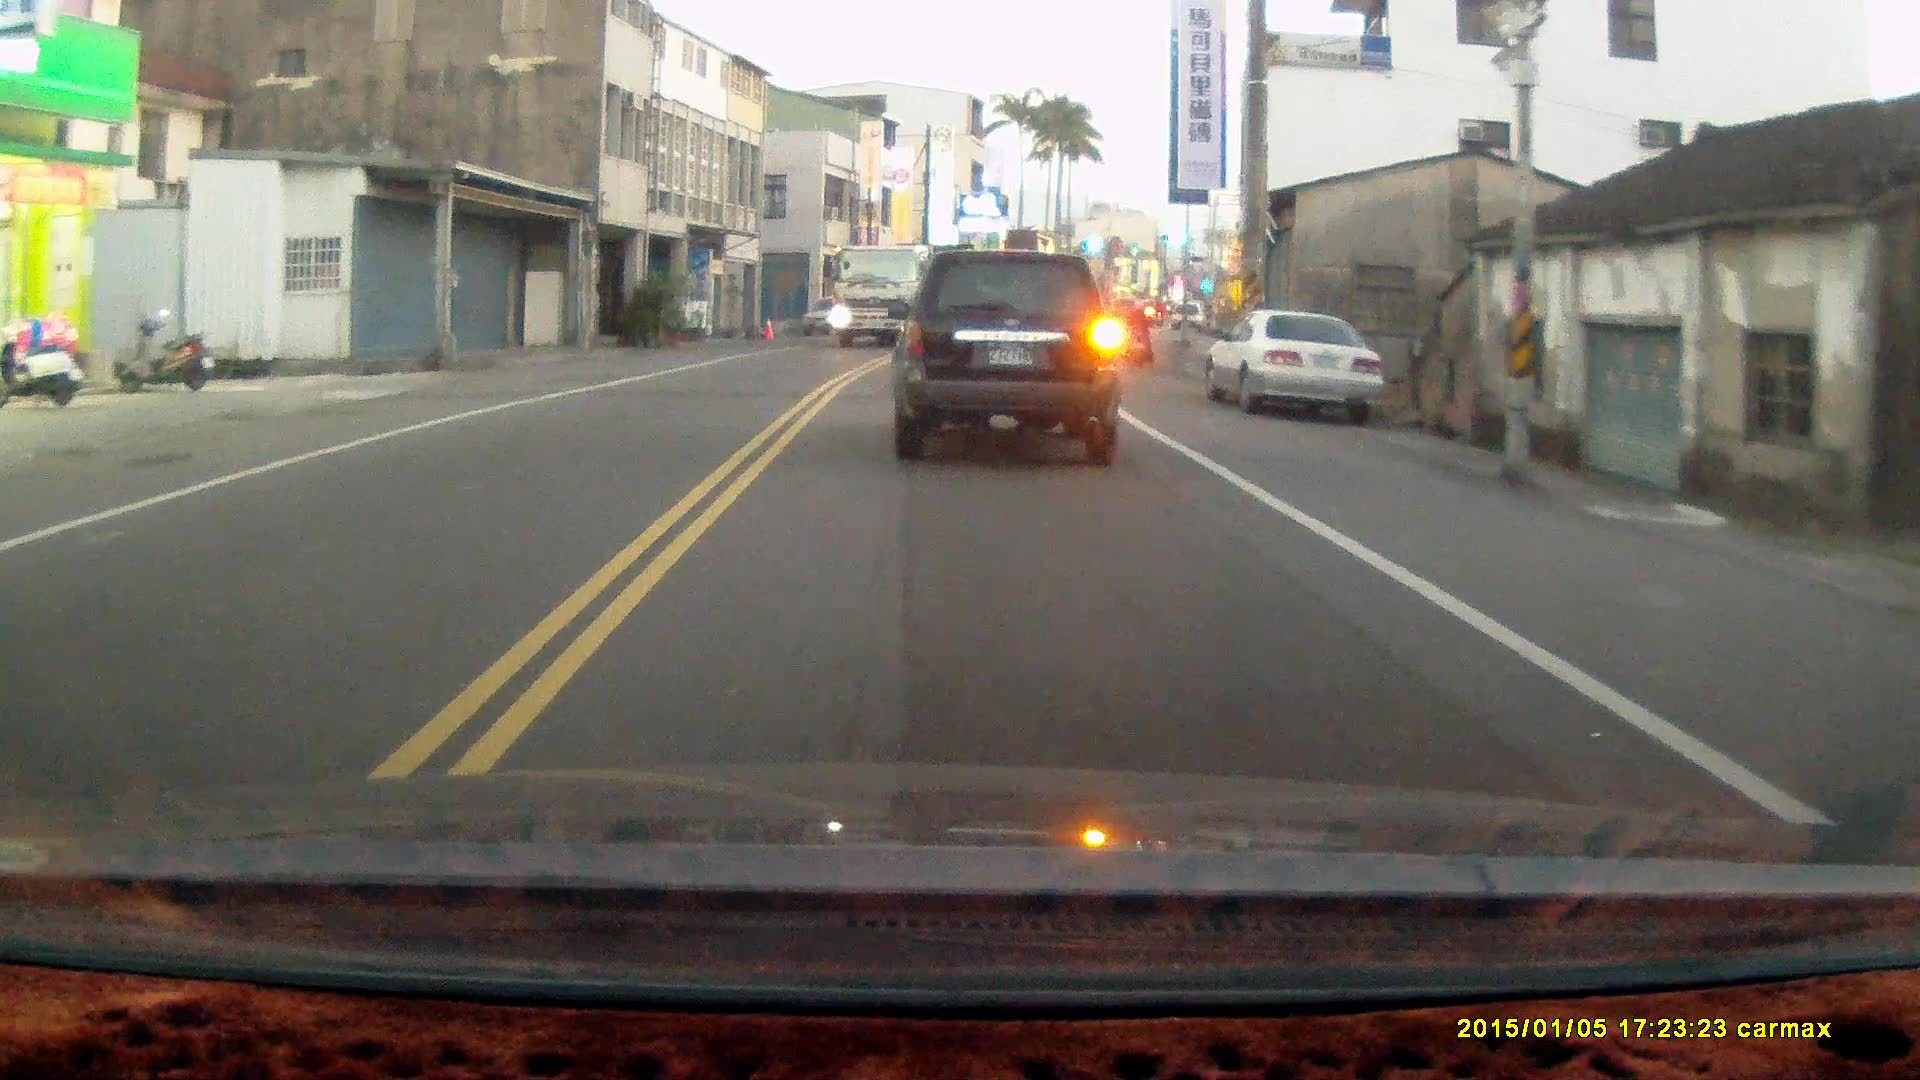rider: (1124, 294, 1155, 368)
vehicle: (891, 250, 1132, 460), (1207, 313, 1388, 431), (819, 242, 932, 347)
